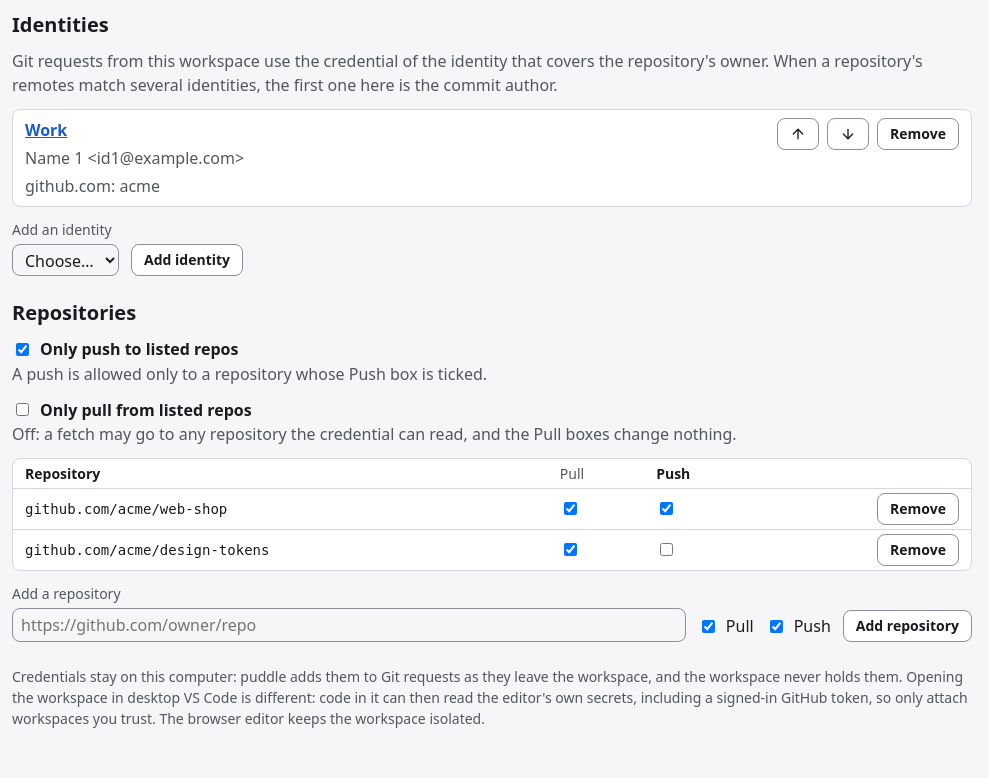
Test case: identities on a workspace › asks for a choice, and shows the host's collision message
Expected: the heading "Identities" is shown, [12,11,109,38]
Expected: the table is shown, [13,459,971,570]
Click the button "Add identity" at (187, 260), box [131,244,243,276]
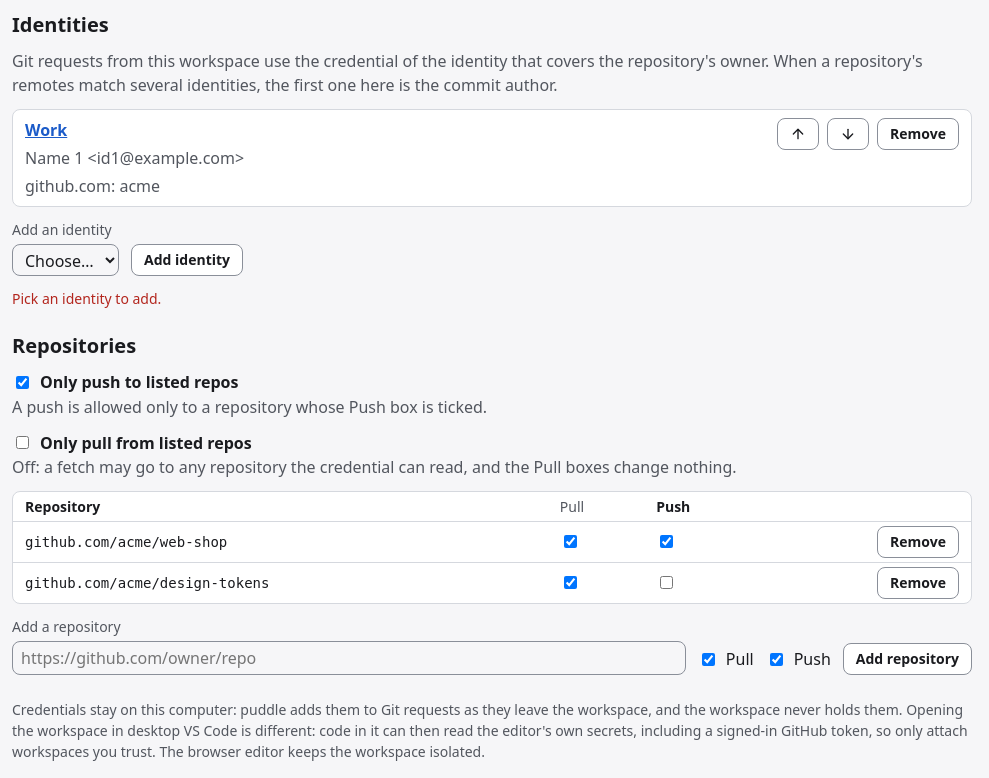
Expected: the message reads "Pick an identity to add.", [12,289,161,308]
Select "Clash" in the dropdown labelled "Add an identity" at (66, 260), box [12,244,119,276]
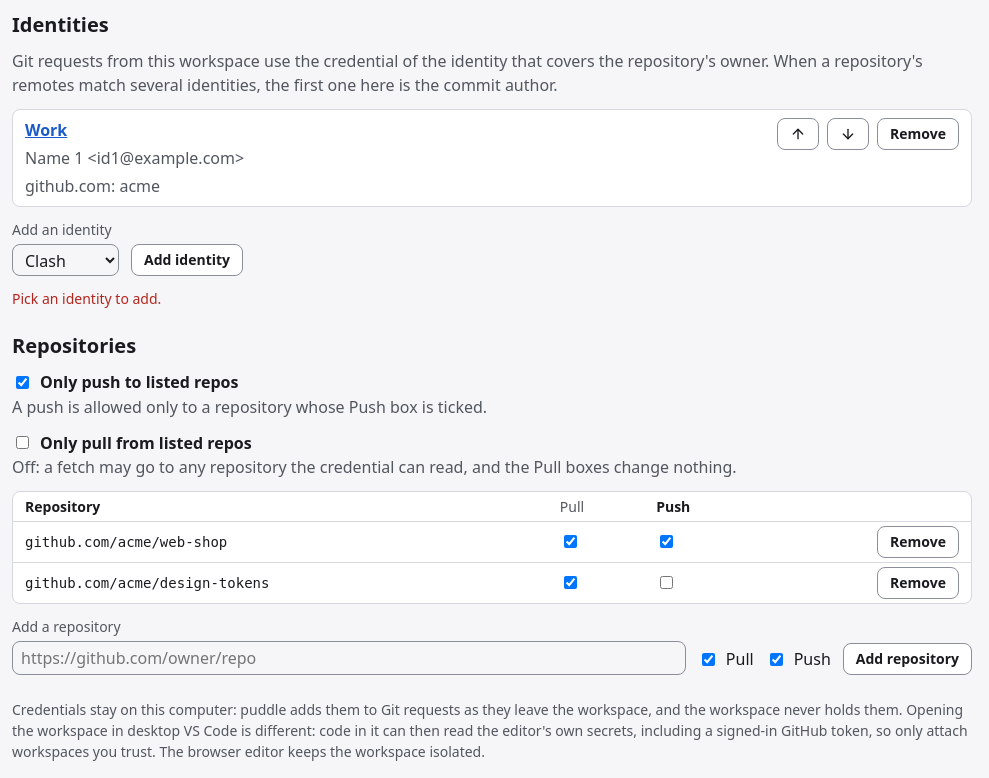
Click the button "Add identity" at (187, 260), box [131,244,243,276]
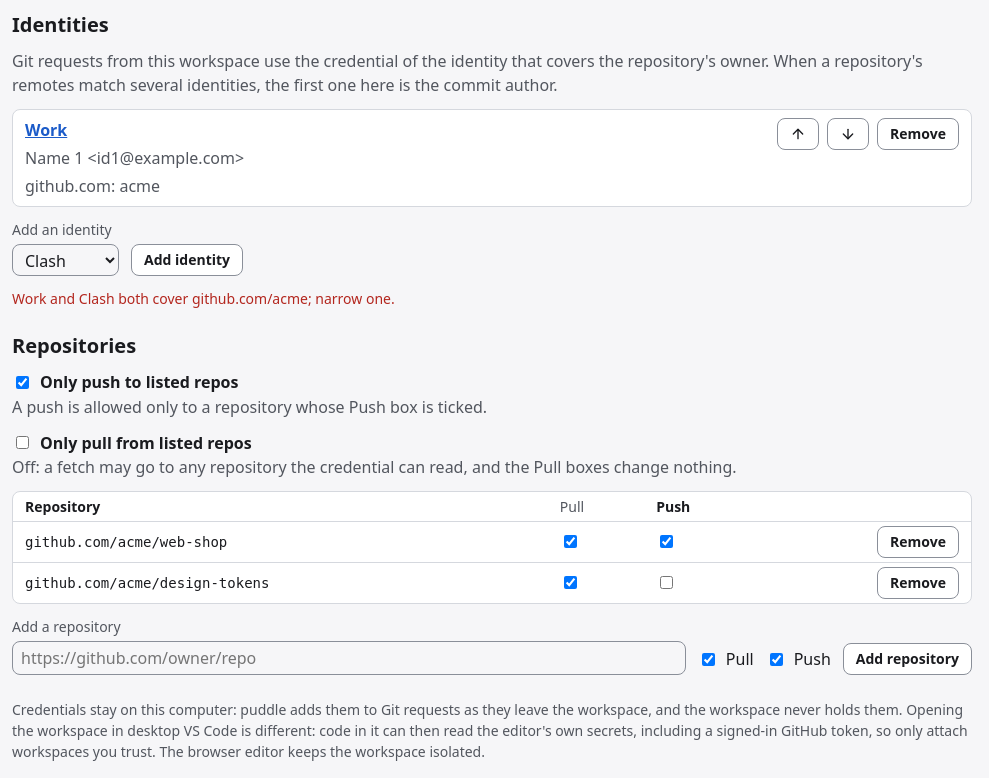
Expected: the number of list items is 1, [12,109,972,207]
Expected: the message reads "Work and Clash both cover github.com/acme; narrow one.", [12,289,395,308]
